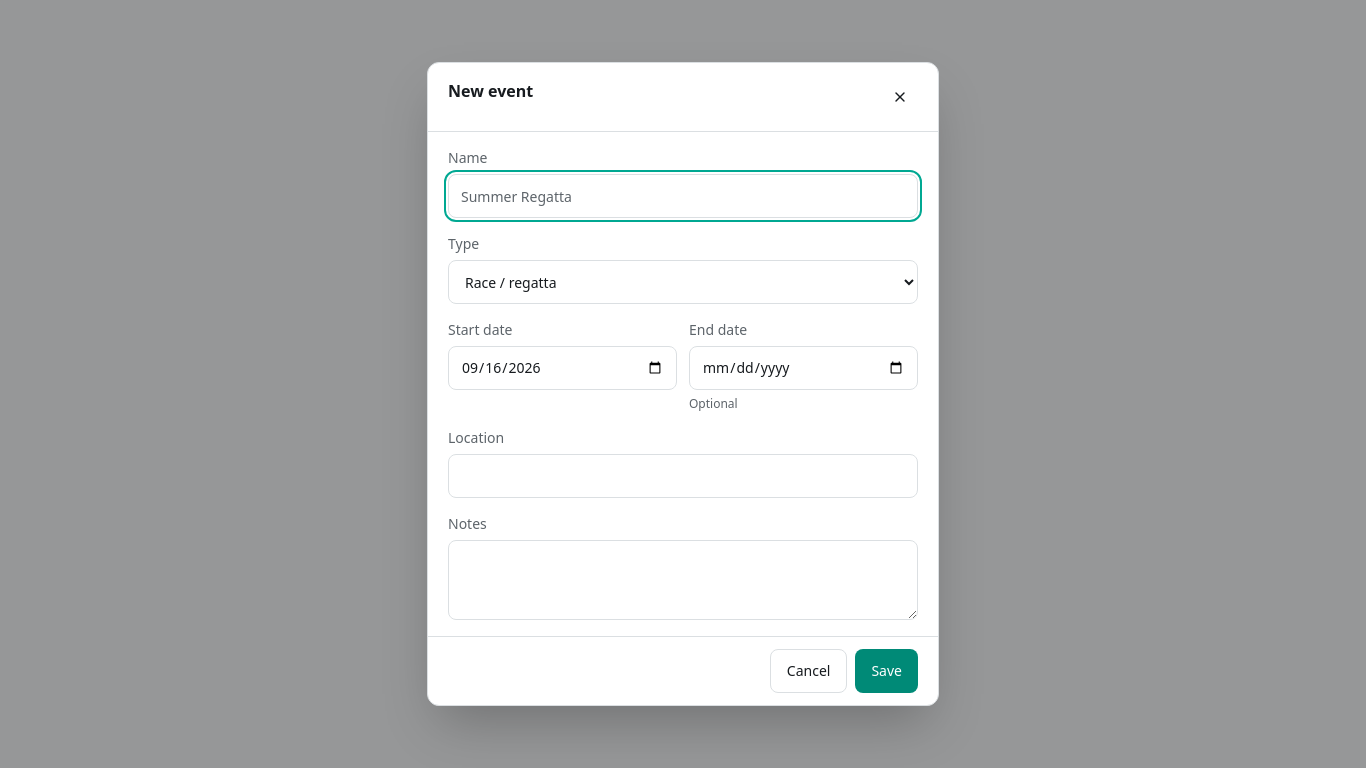
Test: EventForm weekly series › refuses a series with no weekday picked
Type "Water Training" into the field labelled "Name".
click(683, 196); type("Water Training")  # box [448,174,918,218]
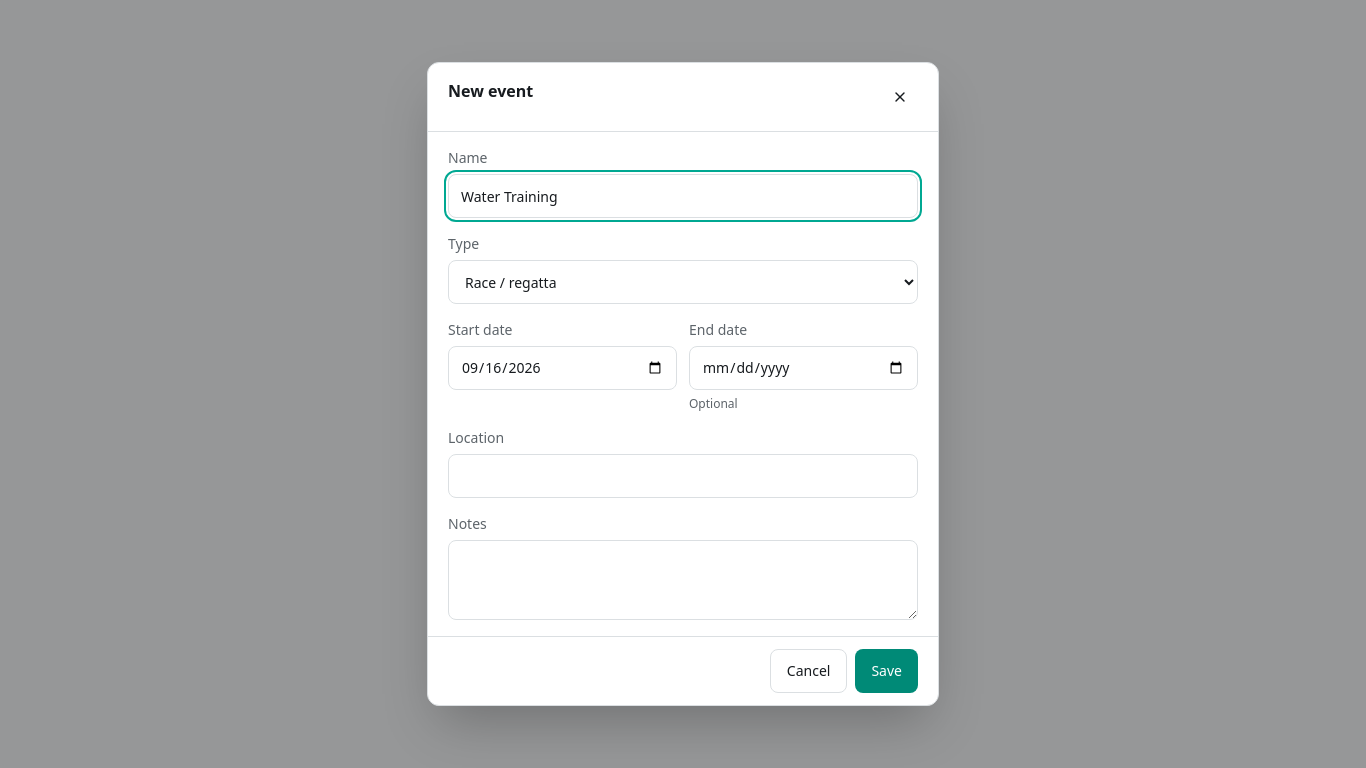
Select "Practice" in the dropdown labelled "Type" at x=683, y=282, box [448,260,918,304]
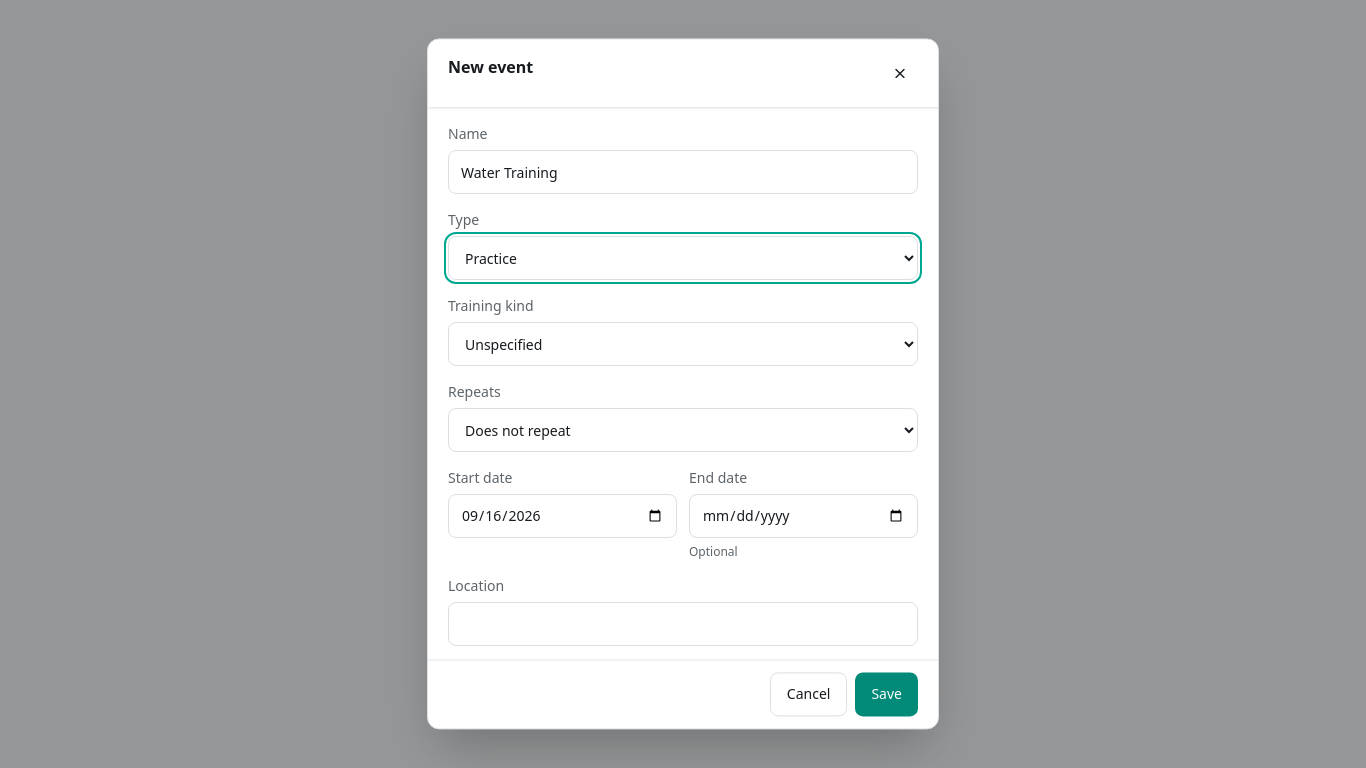
Select "Weekly, on chosen days" in the dropdown labelled "Repeats" at x=683, y=430, box [448,408,918,452]
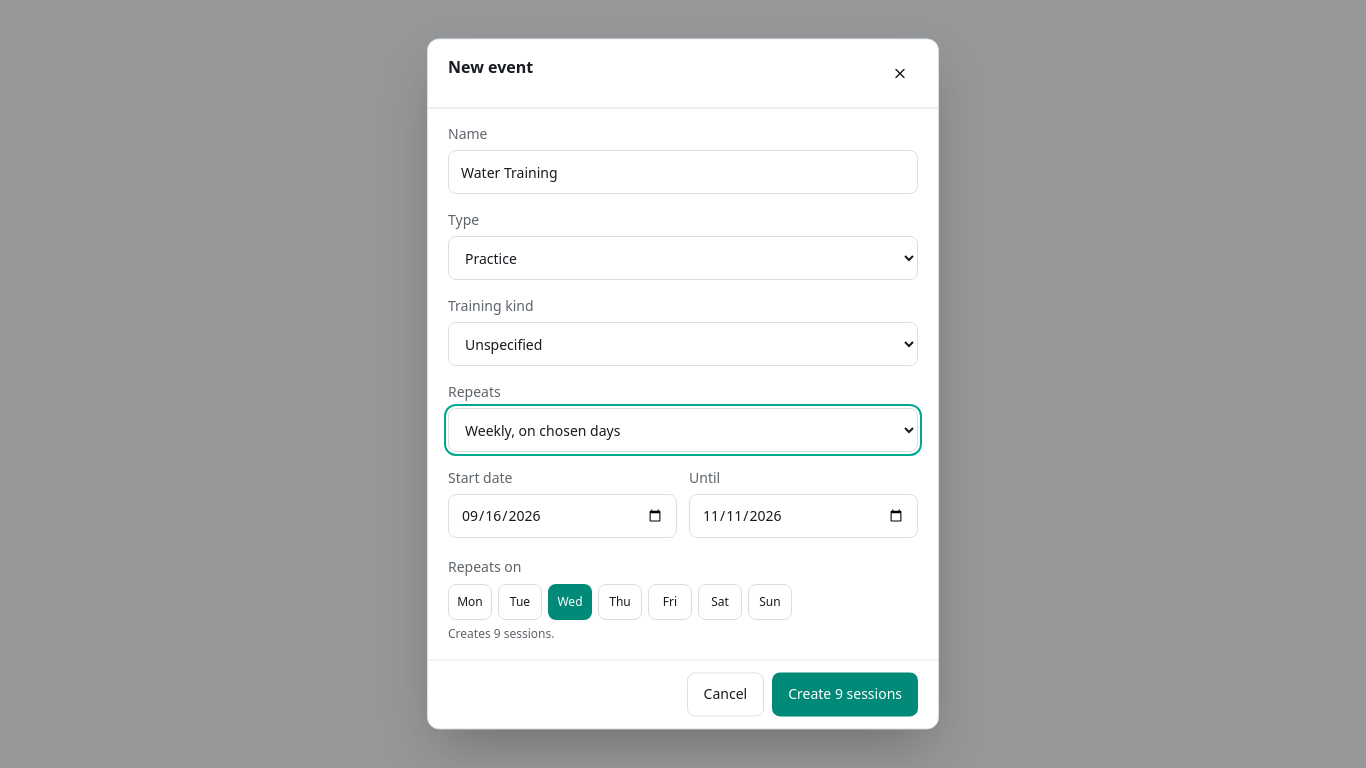
Click the button with aria-label "Wednesday".
click(570, 602)  # box [548,584,592,620]
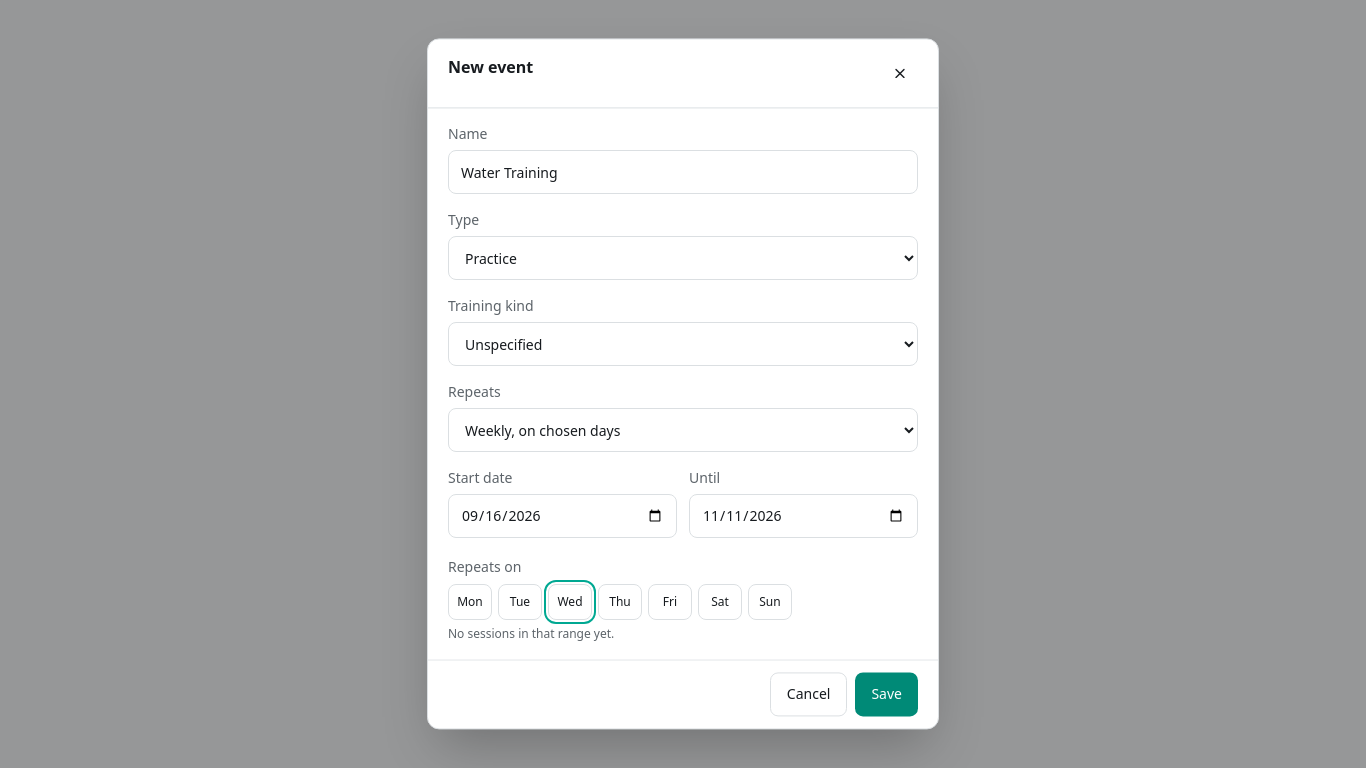
Click the button "Save".
click(887, 695)  # box [855,673,918,717]
(page scrolled)
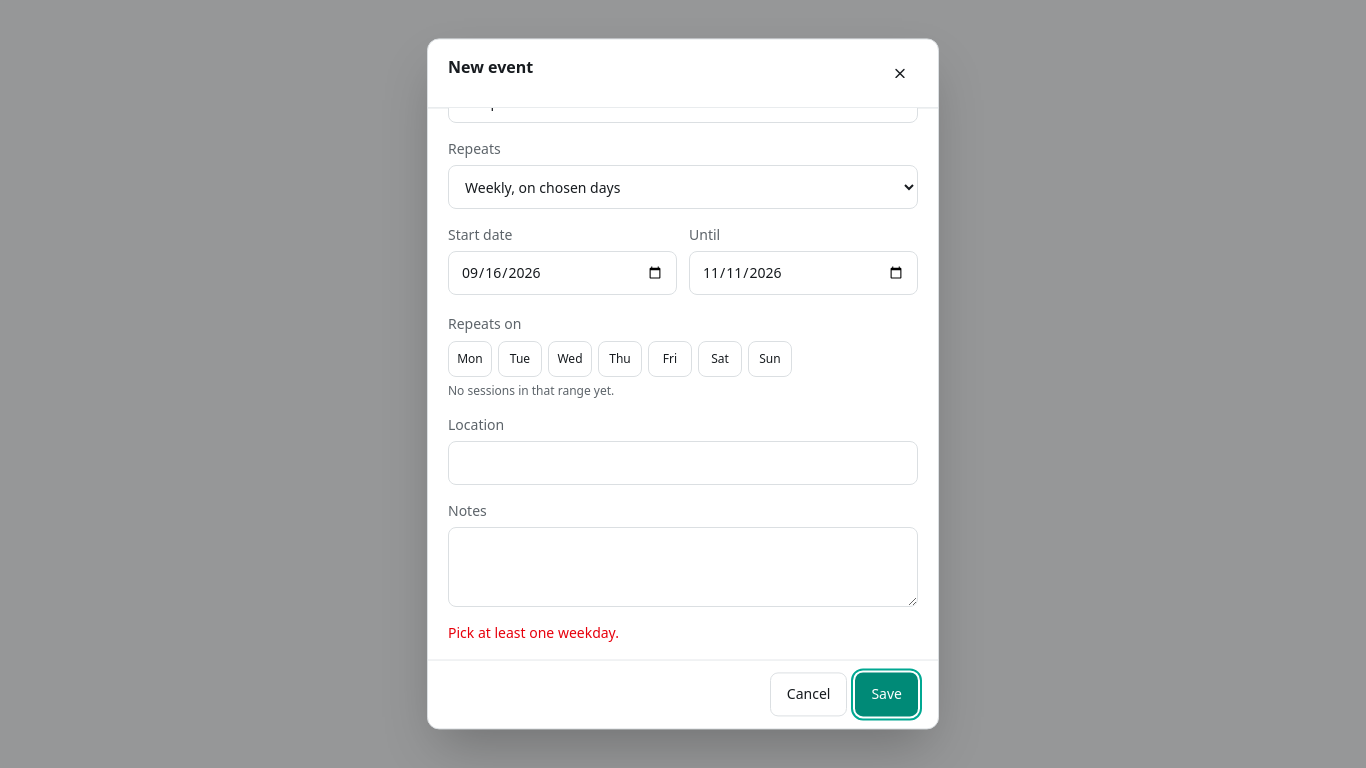
Expected: the text "Pick at least one weekday." is shown, [448,623,619,642]
